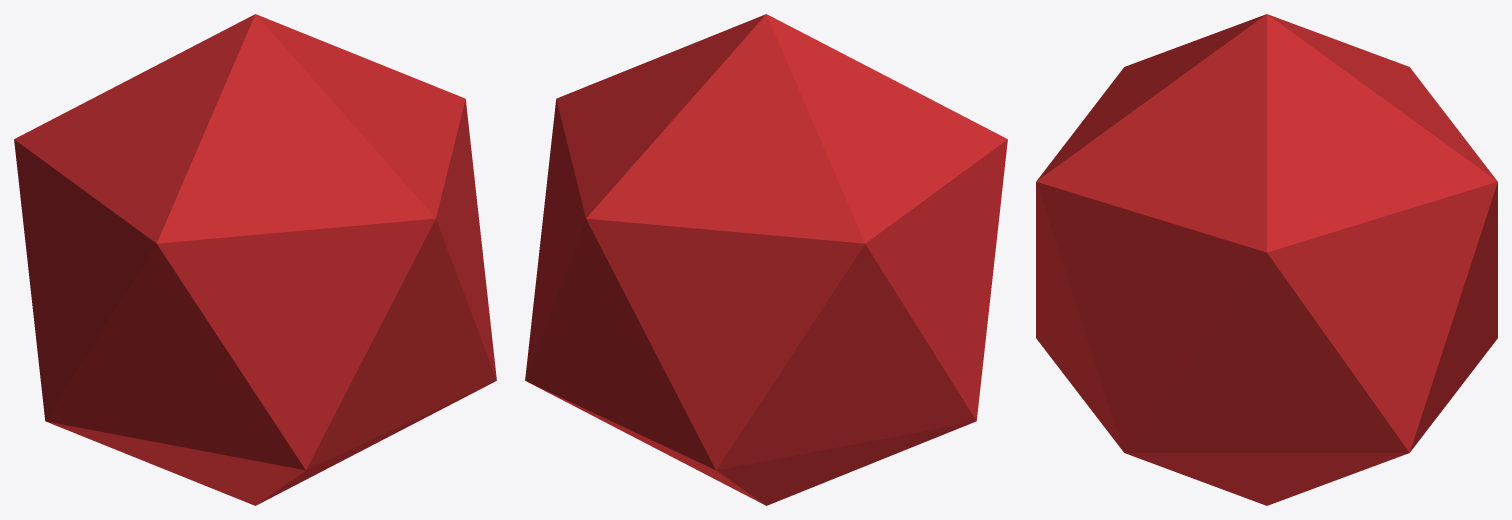
Rendered from dice.glb.
The picture shows the model from 3 angles, left to right: view 1: azimuth 30°, elevation 25°; view 2: azimuth 150°, elevation 25°; view 3: azimuth 270°, elevation 25°; orthographic projection.
Parts seen in each view (by area): view 1: d20; view 2: d20; view 3: d20.
Part boxes in pixels (box(x1,y1,x2,y2)): d20: box(14, 14, 496, 505); d20: box(525, 14, 1007, 505); d20: box(1036, 14, 1497, 505).
Size of the model in its own units: 0.8765 by 0.98 by 0.8336.
